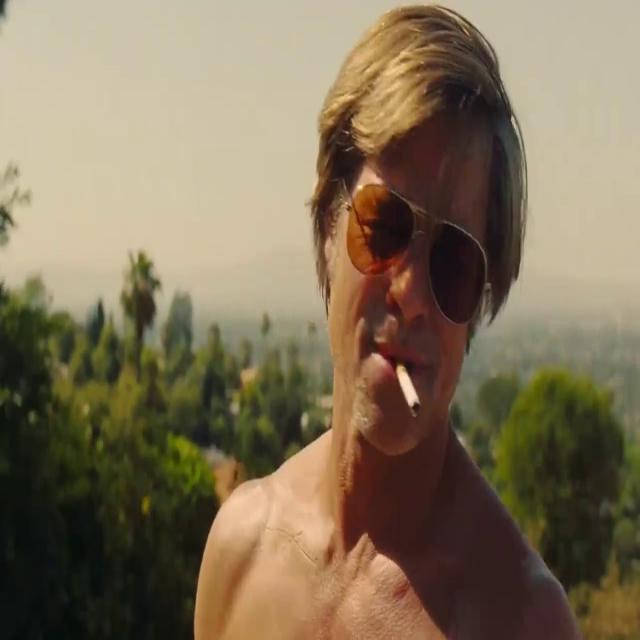Smooking: (396, 362, 426, 423)
